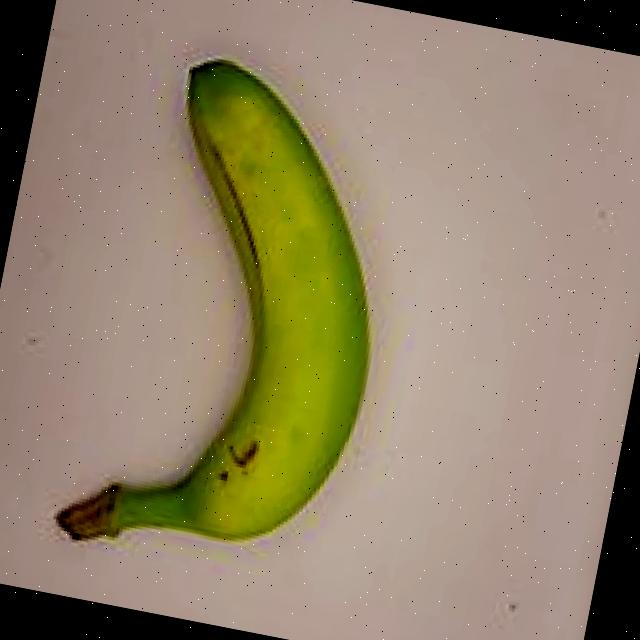Unripe: (19, 18, 458, 616)
